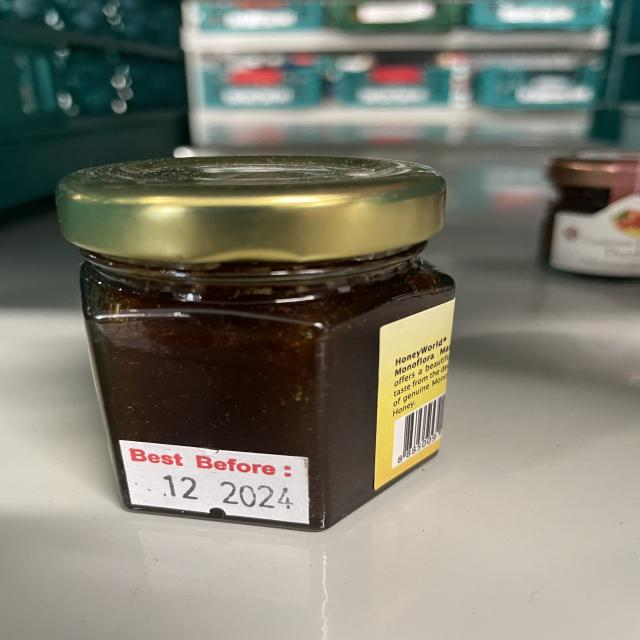object_name: (61, 160, 452, 530)
